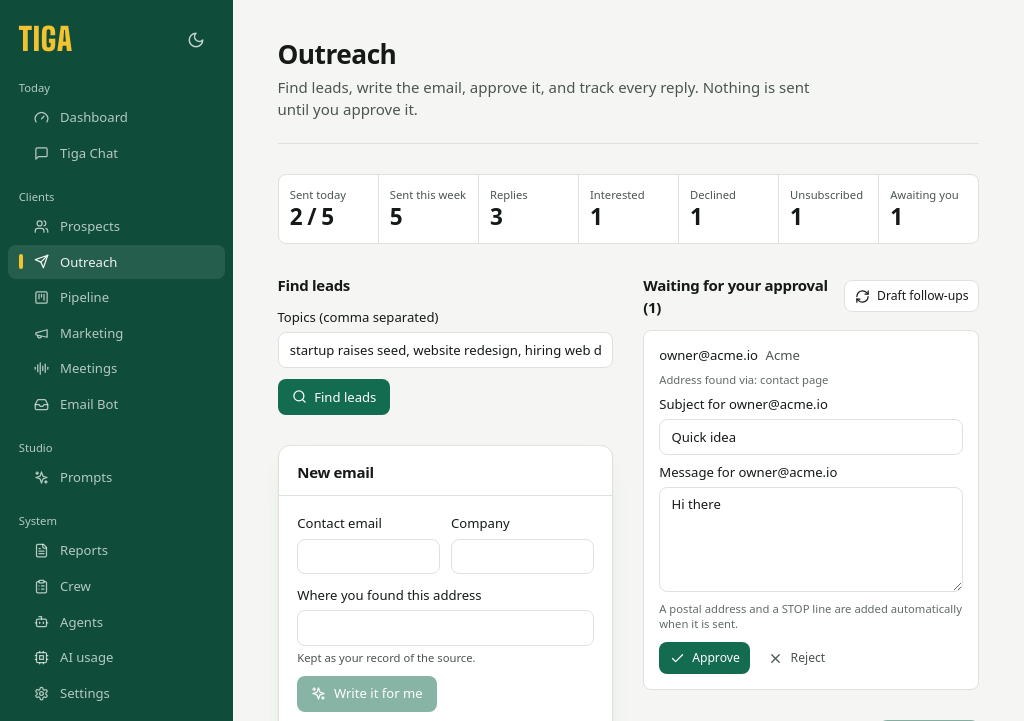
Test: Outreach › must save edits before approving
Type " v2" into the field labelled "Subject for owner@acme.io" at {"x": 811, "y": 437}, box [659,419,963,455]
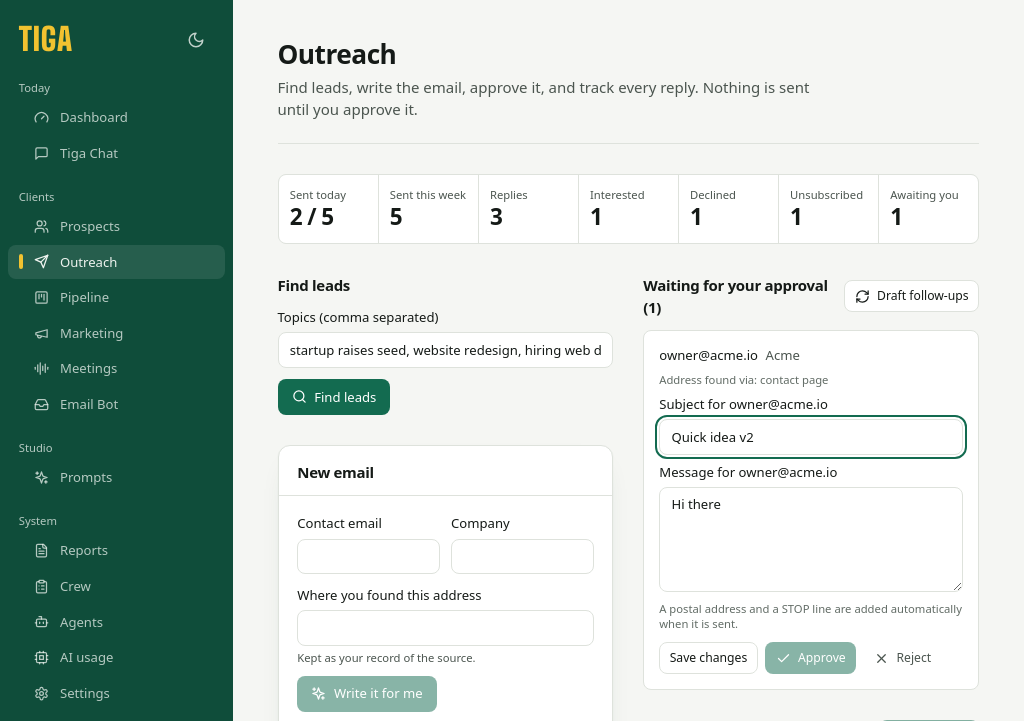
Check: the button named "approve owner@acme.io" is disabled, box [765,642,856,674]
Check: the button "Save changes" is shown, box [659,642,758,674]
